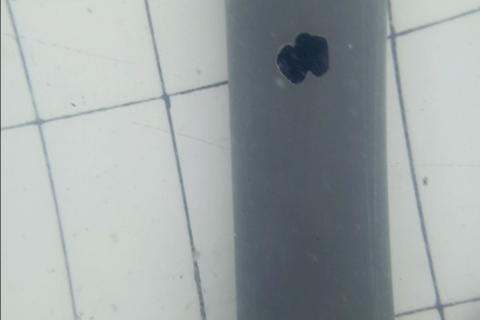kebocoran: (275, 31, 330, 85)
